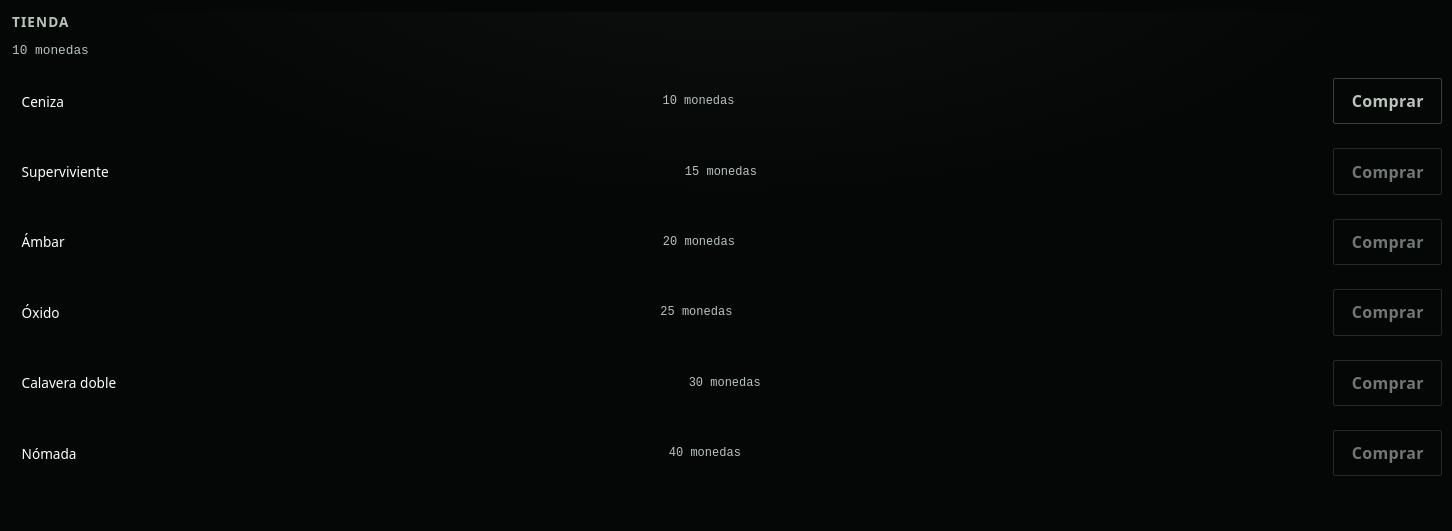
Test: ShopPanel › avisa con el mensaje del servidor cuando el saldo no llega
Expected: the text with class "shop-panel__balance" is shown, [12,43,89,58]
Click the button "Comprar" in the row of "Ceniza": (1388, 101) [1333,78,1442,124]
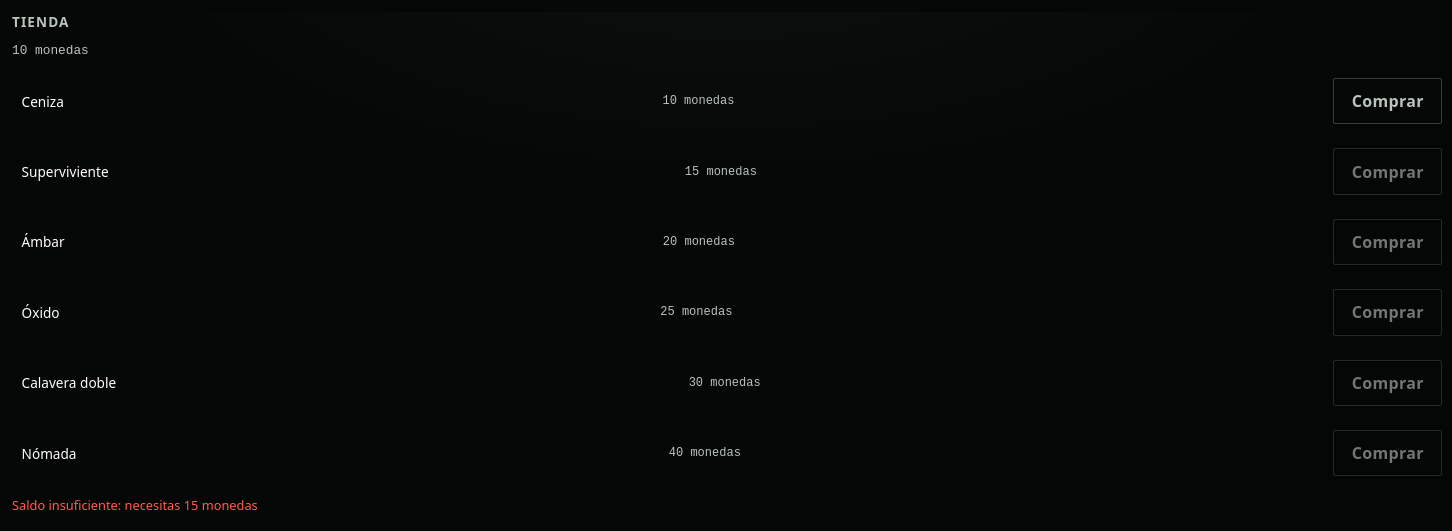
Expected: the text "Ceniza" is shown, [22,92,64,111]
Now the message reads "Saldo insuficiente: necesitas 15 monedas", box [12,496,258,514]
